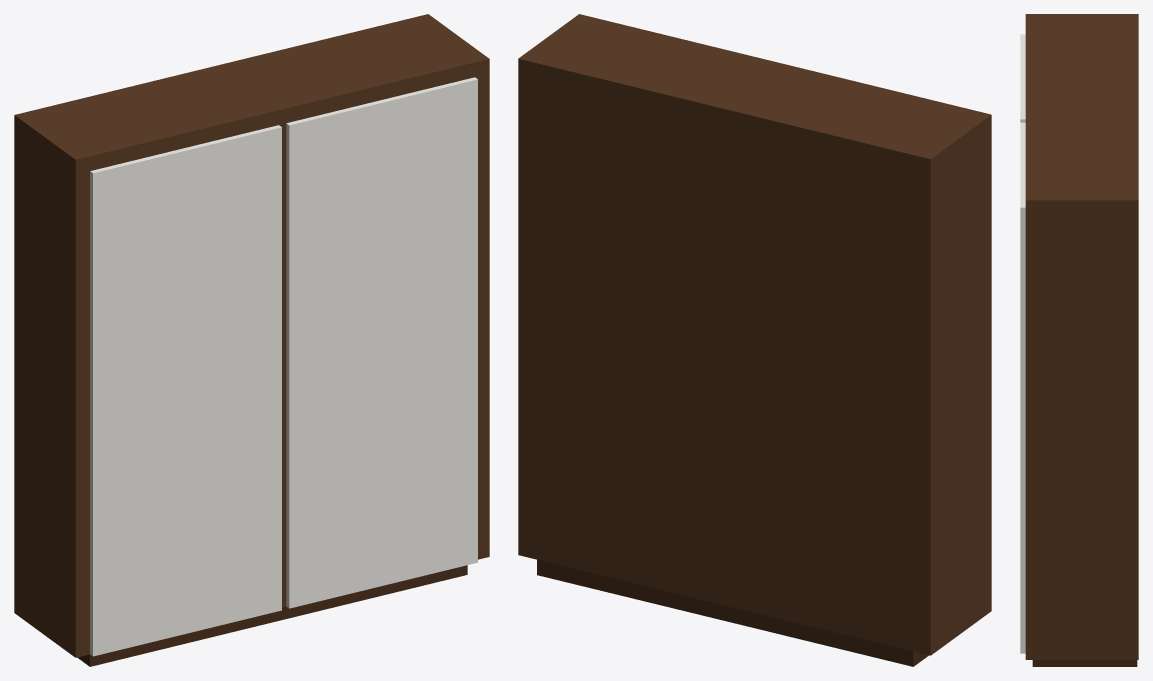
Rendered from cabinet-lite.glb.
3 renders of one model, left to right at view 1: azimuth 30°, elevation 25°; view 2: azimuth 150°, elevation 25°; view 3: azimuth 270°, elevation 25°, orthographic. The views are drawn at different scales.
Parts seen in each view (by area): view 1: material-1-door, material-0-body, material-3-trim, material-4-base; view 2: material-0-body, material-3-trim, material-4-base; view 3: material-3-trim, material-0-body, material-1-door, material-4-base.
Boxes of the visible parts, bbox=[...] form: material-1-door: bbox=[90, 77, 477, 656]; material-0-body: bbox=[20, 15, 484, 656]; material-3-trim: bbox=[14, 14, 489, 657]; material-4-base: bbox=[77, 565, 467, 666]; material-0-body: bbox=[523, 15, 985, 654]; material-3-trim: bbox=[518, 14, 991, 655]; material-4-base: bbox=[537, 559, 928, 666]; material-3-trim: bbox=[1025, 14, 1138, 659]; material-0-body: bbox=[1025, 16, 1138, 197]; material-1-door: bbox=[1020, 34, 1025, 653]; material-4-base: bbox=[1032, 660, 1137, 666].
Bounding box in the file's own units: 1.6 × 1.9 × 0.43.
